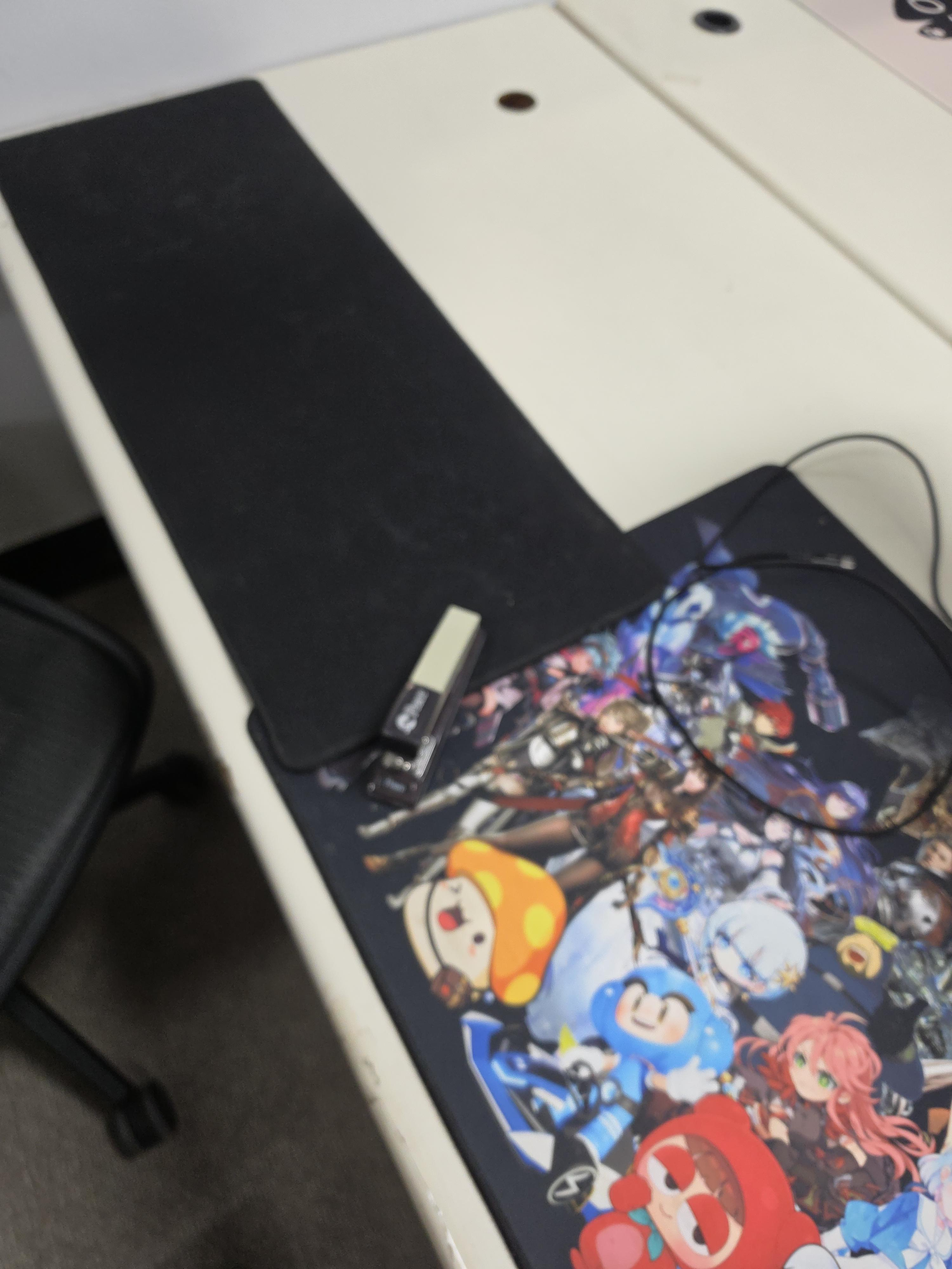stapler: (362, 603, 486, 810)
